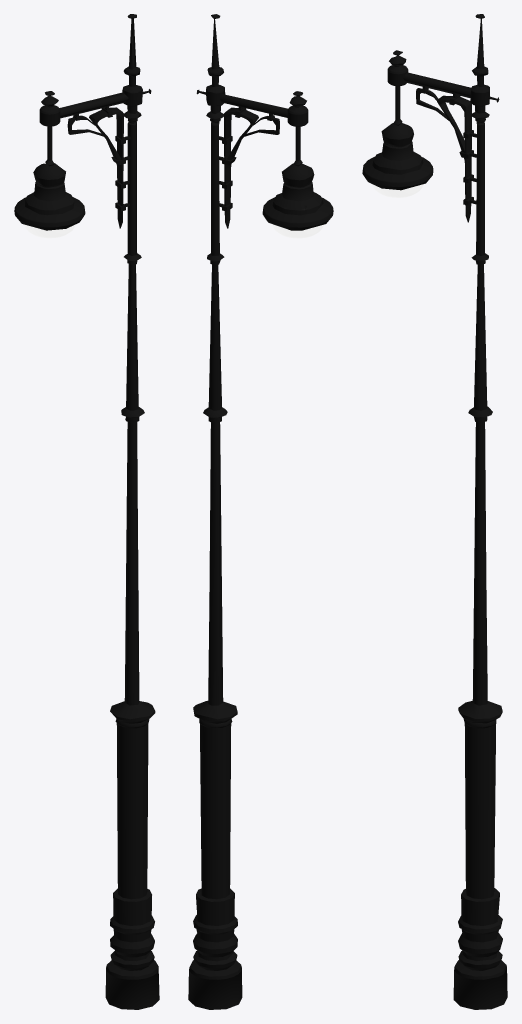
Rendered from p_street_lamp.glb.
3 views of the same model, side by side, from view 1: azimuth 30°, elevation 25°; view 2: azimuth 150°, elevation 25°; view 3: azimuth 330°, elevation 25° (orthographic).
Parts seen in each view (by area): view 1: polySurface12, pCylinder14; view 2: polySurface12, pCylinder14; view 3: polySurface12, pCylinder14.
Boxes of the visible parts, box(x1,y1,x2,y2) form: polySurface12: box(14, 14, 159, 1009); pCylinder14: box(24, 224, 75, 238); polySurface12: box(188, 14, 333, 1009); pCylinder14: box(272, 224, 323, 238); polySurface12: box(362, 14, 507, 1009); pCylinder14: box(372, 184, 423, 197).
Bounding box in the file's own units: 7.11 × 48.78 × 3.21.
2 materials, 1 textured.
